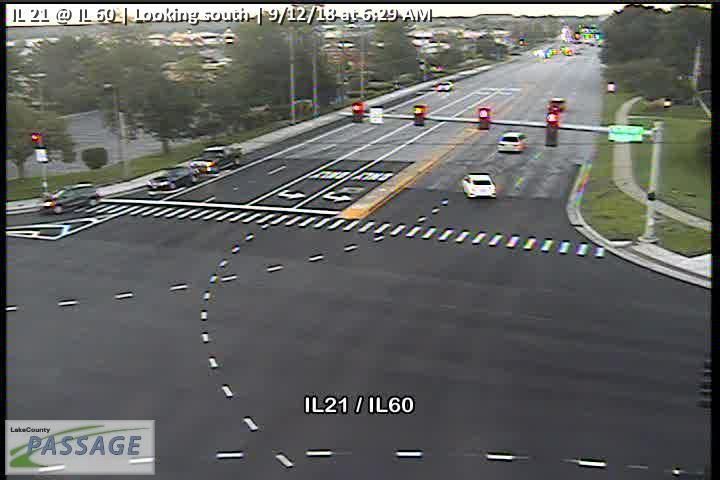SUV: (40, 183, 99, 213)
Sedan: (146, 165, 198, 190), (461, 172, 497, 199), (497, 131, 528, 153), (436, 81, 454, 91)
Truck: (189, 145, 243, 174)
